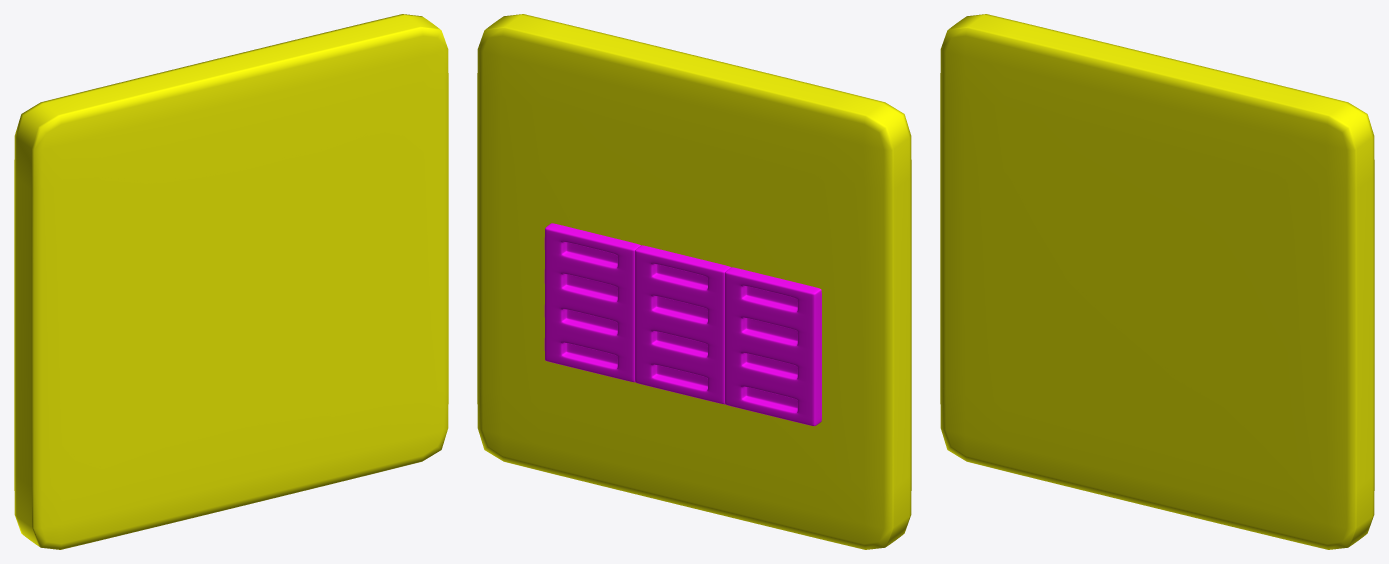
3 renders of one model, left to right at view 1: azimuth 30°, elevation 25°; view 2: azimuth 150°, elevation 25°; view 3: azimuth 330°, elevation 25°, orthographic.
Parts seen in each view (by area): view 1: polySurface982; view 2: polySurface982; view 3: polySurface982.
Part boxes in pixels (x1,y1,x2,y2): polySurface982: (14, 14, 448, 549); polySurface982: (477, 14, 911, 549); polySurface982: (940, 14, 1374, 549).
Bounding box in the file's own units: 0.9994 × 0.9994 × 0.1274.
